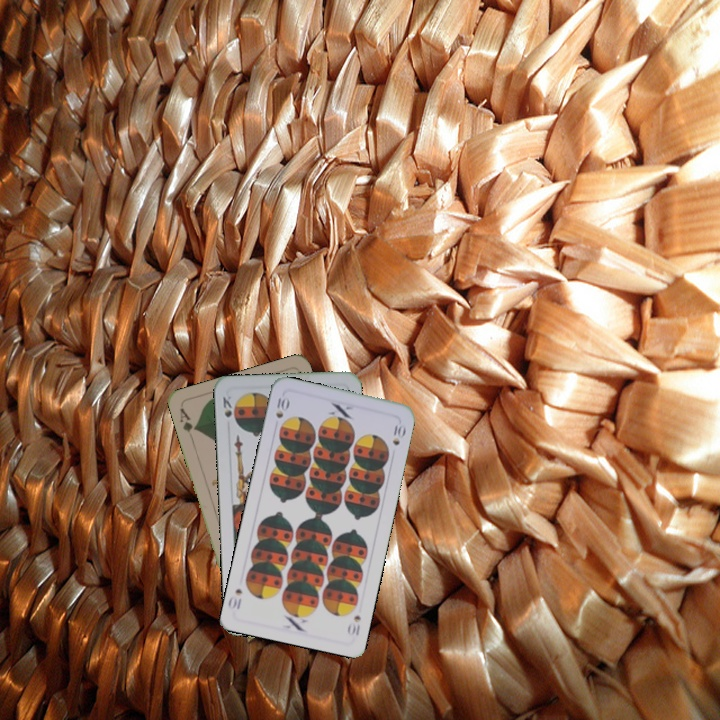GA: (176, 404, 199, 443)
S10: (272, 393, 292, 421), (344, 611, 363, 639)
SK: (219, 392, 234, 420)
